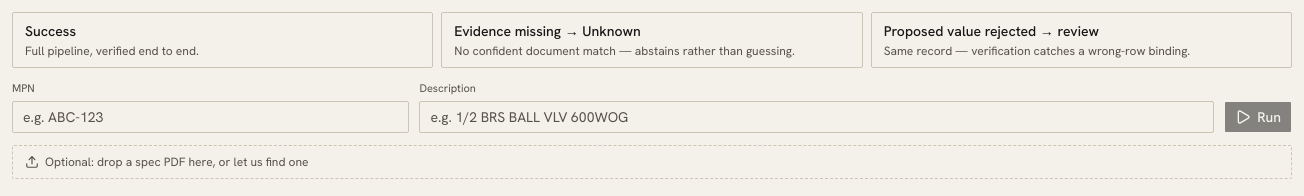
Scenario: RunInput › disables Run until MPN or description is filled
Expected: the button "Run" is disabled, left=1224, top=100, right=1292, bottom=132
Type "ABC-123" into the field labelled "MPN" at [211, 116], box left=12, top=100, right=409, bottom=132
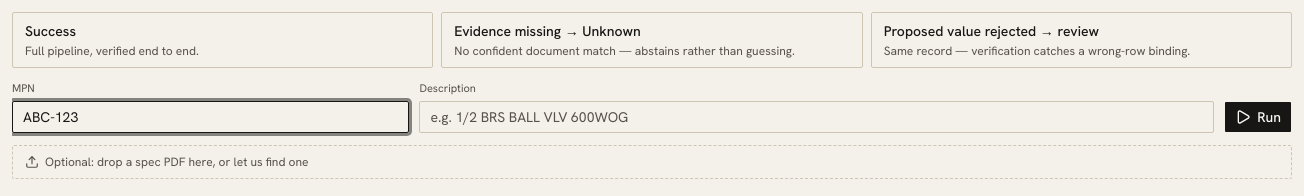
Result: the button "Run" is enabled at left=1224, top=100, right=1292, bottom=132
